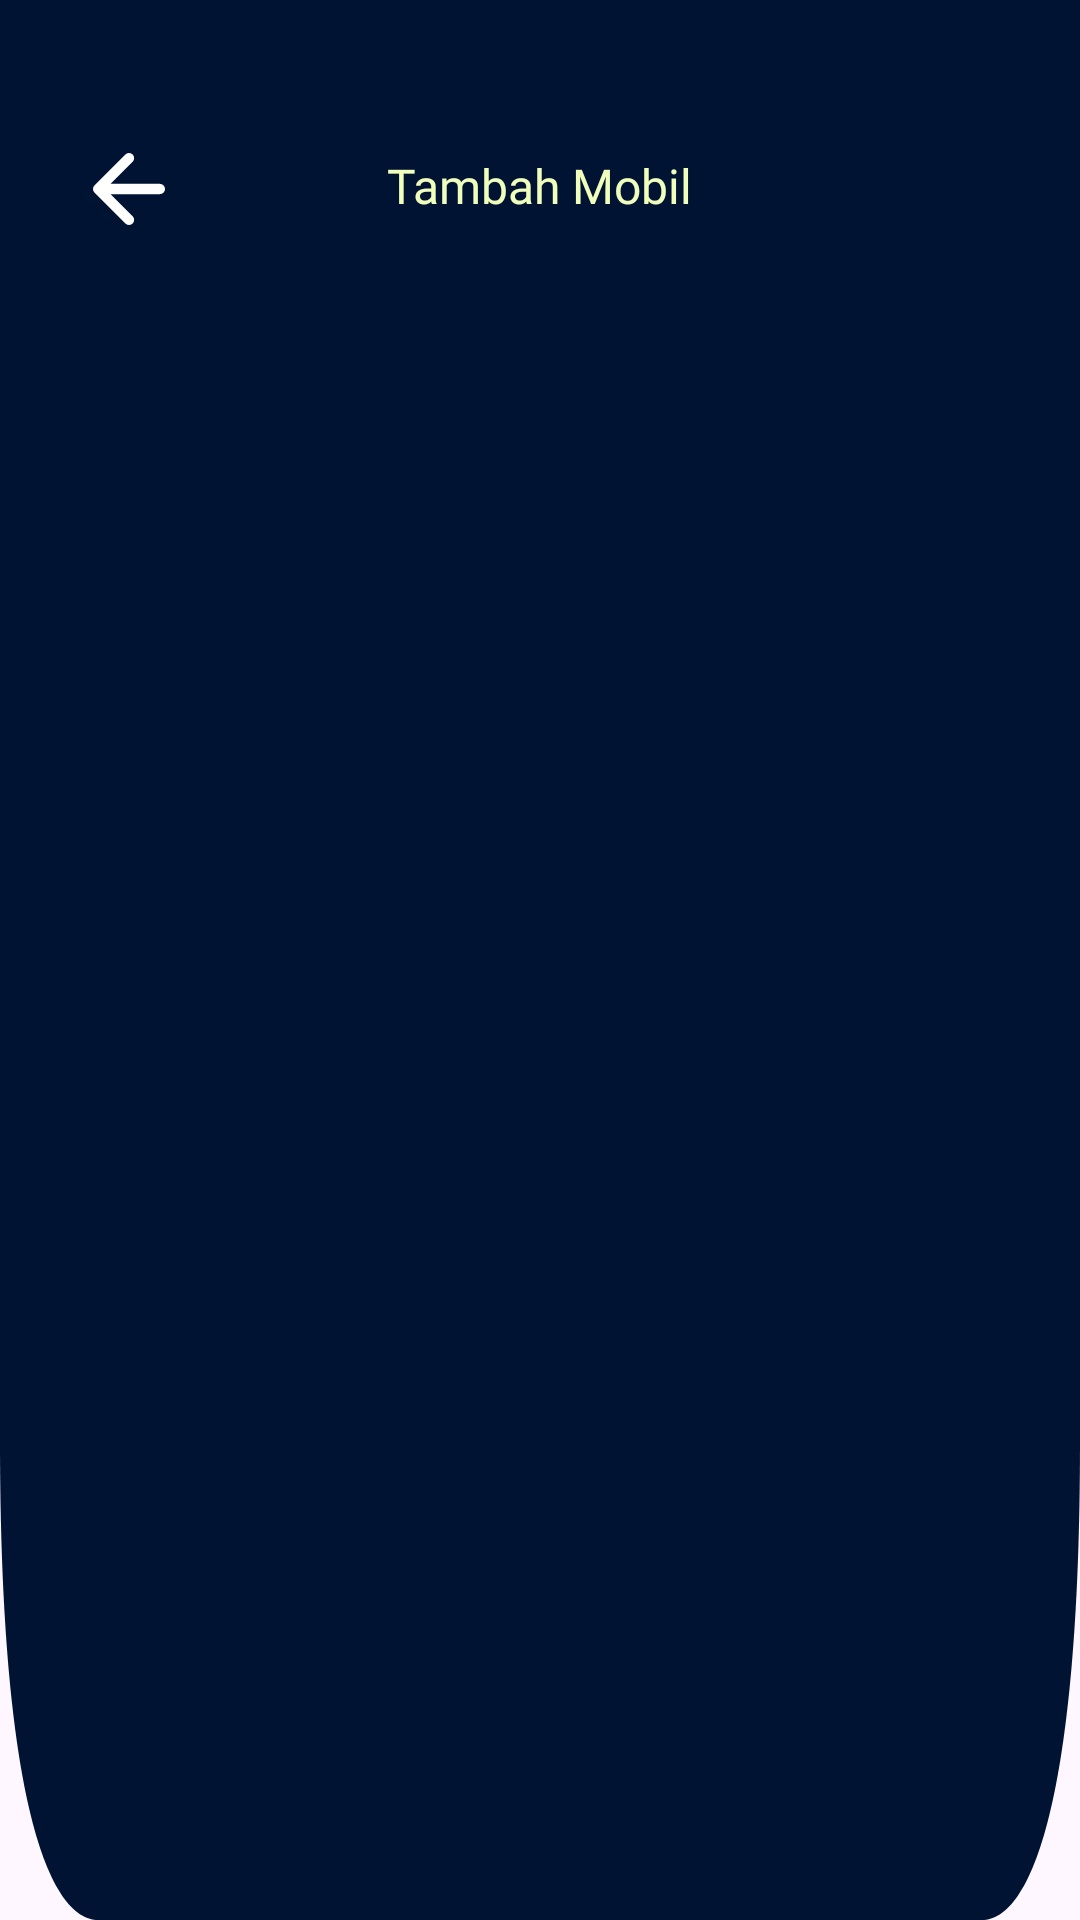

Named icons in this screenshot (1080 × 1920) and their centers, point (x, y):
back: point (129, 189)
